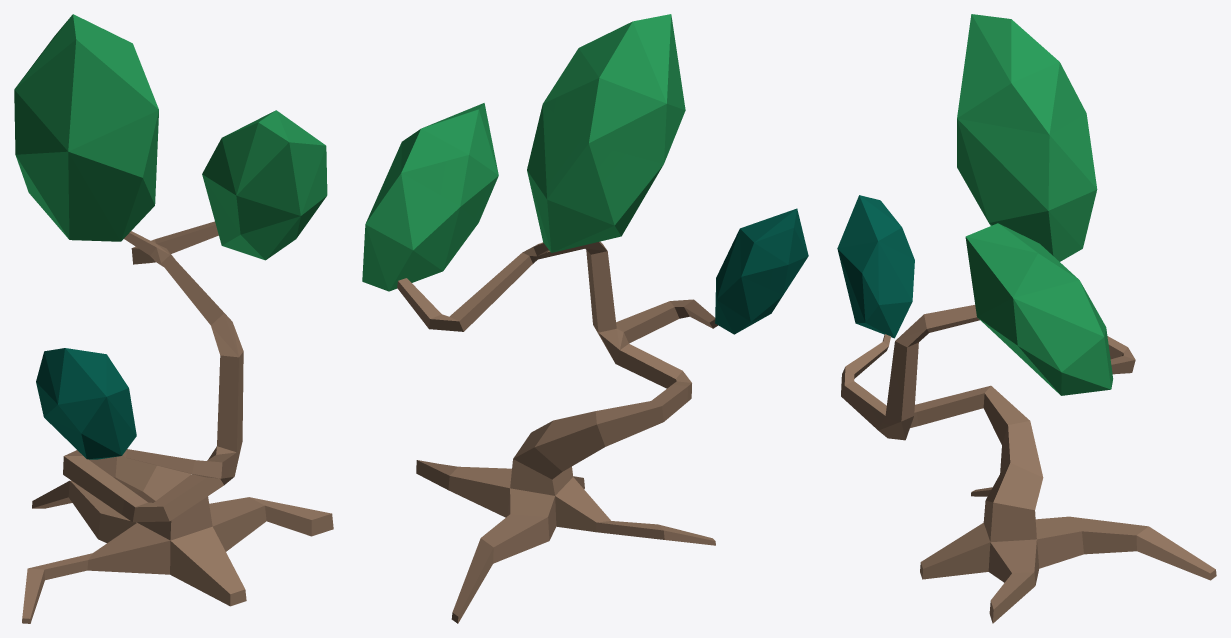
The model's file is LushTree_03_Mesh.fbx.
3 views of the same model, side by side, from view 1: azimuth 30°, elevation 25°; view 2: azimuth 150°, elevation 25°; view 3: azimuth 270°, elevation 25° (orthographic). The views are drawn at different scales.
Visible parts, largest first — view 1: LushTree.001_LOD0; view 2: LushTree.001_LOD0; view 3: LushTree.001_LOD0.
Boxes of the visible parts, bbox=[...] form: LushTree.001_LOD0: bbox=[14, 14, 333, 623]; LushTree.001_LOD0: bbox=[362, 14, 808, 623]; LushTree.001_LOD0: bbox=[837, 14, 1216, 623].
Size of what is drawn, in the model's own units: 13487 by 20800 by 13631.
